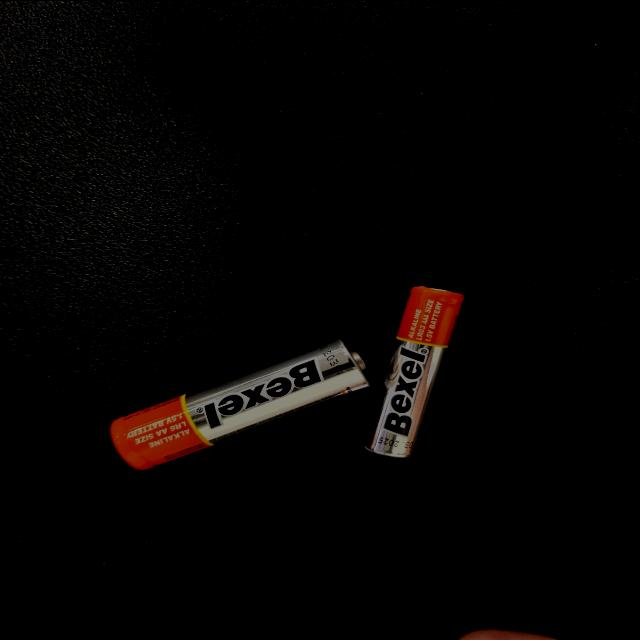AA: (452, 361, 622, 555)
AAA: (379, 289, 612, 367)
